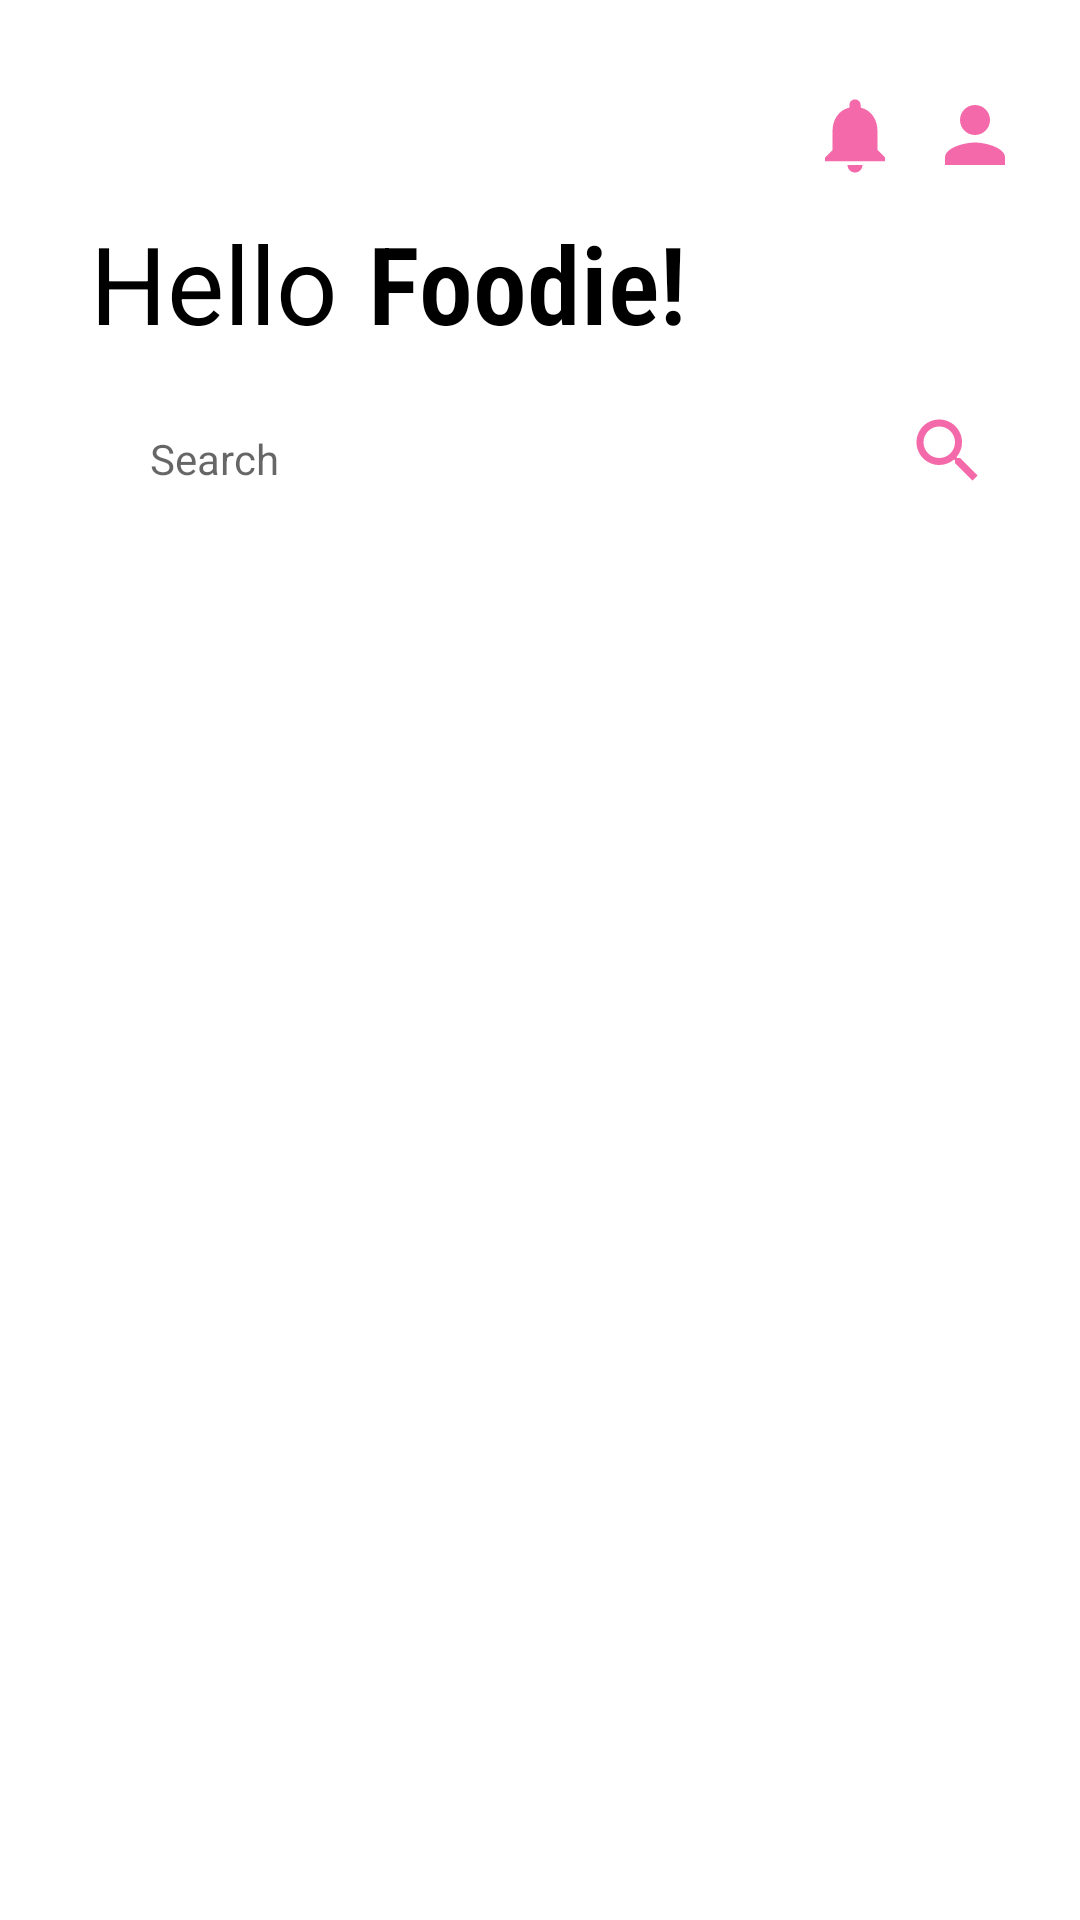

Icon bounding boxes for this 1080px×1920px phone screenshot, format (x1, y1, x2, y2):
notifications: (825, 99, 885, 173)
person: (945, 105, 1005, 165)
